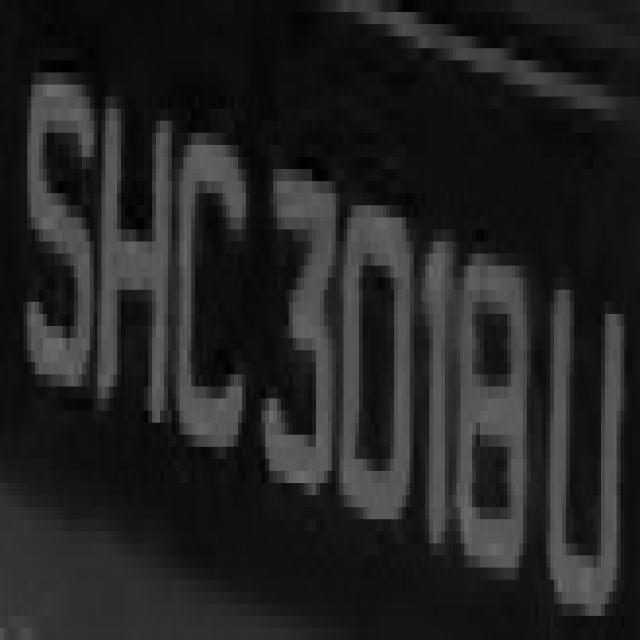0: (332, 121, 414, 555)
1: (418, 157, 460, 604)
3: (265, 133, 332, 507)
8: (456, 169, 530, 592)
C: (176, 97, 250, 495)
H: (90, 36, 172, 471)
S: (12, 49, 98, 398)
U: (542, 229, 632, 640)
